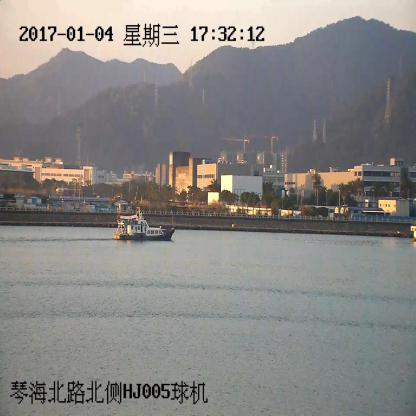Fishing Boat: (114, 210, 175, 242)
